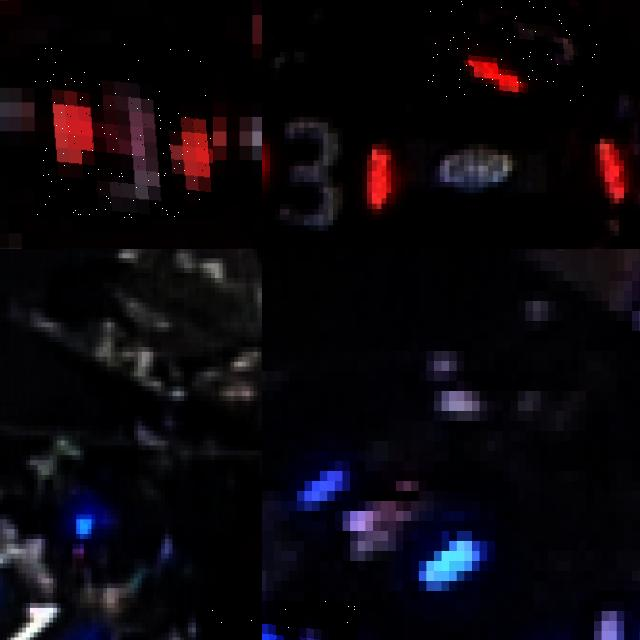B1: (0, 588, 99, 640)
B4: (525, 601, 640, 640), (262, 601, 358, 640)
R3: (35, 44, 213, 219), (262, 109, 403, 239), (427, 0, 597, 100), (568, 65, 640, 211)
